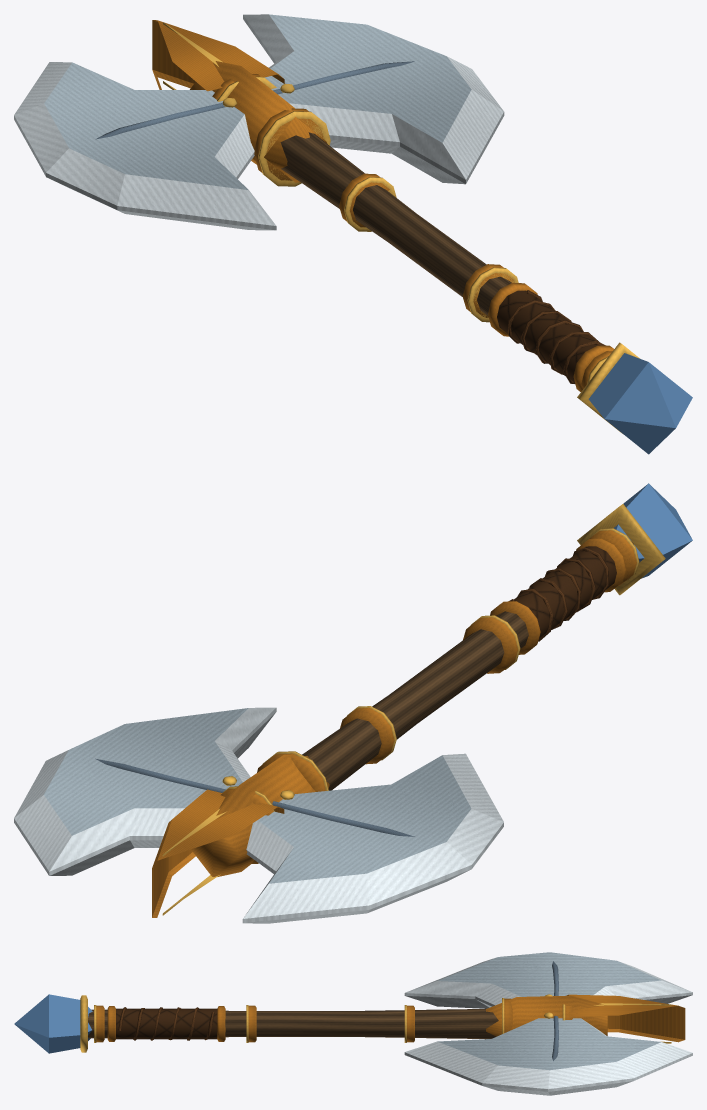
Rendered from iron_knuckle_axe.glb.
The picture shows the model from 3 angles, top to bottom: view 1: azimuth 30°, elevation 25°; view 2: azimuth 150°, elevation 25°; view 3: azimuth 270°, elevation 25°; orthographic projection. The views are drawn at different scales.
Visible parts, largest first — view 1: Iron Knuckle crescent blade face (×2), Iron Knuckle crescent blade broad bevel (×3), Long patterned axe shaft, Axe faceted blue butt jewel, Gold central head spike, Textured leather grip, Axe head square-sided gold socket, Iron Knuckle crescent blade cutting rim (×2), Axe ferrule bright lip (×2), Axe shaft gold ferrule (×2), Axe forged strengthening rib (×2), Raised spiral leather binding (+2 smaller); view 2: Iron Knuckle crescent blade face (×2), Iron Knuckle crescent blade broad bevel (×4), Long patterned axe shaft, Gold central head spike, Axe head square-sided gold socket, Textured leather grip, Axe shaft gold ferrule (×4), Axe faceted blue butt jewel, Iron Knuckle crescent blade cutting rim (×2), Axe butt jewel gold bezel, Grip metal ferrule (×2), Axe forged strengthening rib (×2) (+1 smaller); view 3: Iron Knuckle crescent blade face (×2), Iron Knuckle crescent blade broad bevel (×4), Long patterned axe shaft, Gold central head spike, Textured leather grip, Axe faceted blue butt jewel, Axe head square-sided gold socket, Iron Knuckle crescent blade cutting rim (×2), Axe shaft gold ferrule (×4), Grip metal ferrule (×2), Raised spiral leather binding, Axe butt jewel gold bezel.
Part boxes in pixels (x1,y1,x2,y2): Iron Knuckle crescent blade face (×2): (44,14,471,189); Iron Knuckle crescent blade broad bevel (×3): (14,14,503,225); Long patterned axe shaft: (280,132,511,315); Axe faceted blue butt jewel: (588,353,692,454); Gold central head spike: (152,20,284,91); Textured leather grip: (497,290,599,382); Axe head square-sided gold socket: (190,61,327,182); Iron Knuckle crescent blade cutting rim (×2): (14,15,504,230); Axe ferrule bright lip (×2): (258,111,518,322); Axe shaft gold ferrule (×2): (254,108,514,317); Axe forged strengthening rib (×2): (95,61,414,139); Raised spiral leather binding: (507,290,605,383); Iron Knuckle crescent blade face (×2): (44,708,471,883); Iron Knuckle crescent blade broad bevel (×4): (14,707,503,923); Long patterned axe shaft: (302,541,633,790); Gold central head spike: (152,789,284,917); Axe head square-sided gold socket: (191,754,329,876); Textured leather grip: (514,546,616,638); Axe shaft gold ferrule (×4): (257,530,636,791); Axe faceted blue butt jewel: (614,483,692,578); Iron Knuckle crescent blade cutting rim (×2): (14,708,503,923); Axe butt jewel gold bezel: (577,504,665,595); Grip metal ferrule (×2): (490,538,625,654); Axe forged strengthening rib (×2): (95,758,414,836); Iron Knuckle crescent blade face (×2): (437,952,661,1070); Iron Knuckle crescent blade broad bevel (×4): (405,958,692,1095); Long patterned axe shaft: (88,1008,498,1039); Gold central head spike: (567,994,685,1042); Textured leather grip: (116,1008,217,1039); Axe faceted blue butt jewel: (14,994,92,1053); Axe head square-sided gold socket: (486,995,607,1036); Iron Knuckle crescent blade cutting rim (×2): (404,992,692,1091); Axe shaft gold ferrule (×4): (96,998,512,1042); Grip metal ferrule (×2): (107,1006,225,1041); Raised spiral leather binding: (118,1007,214,1040); Axe butt jewel gold bezel: (80,995,87,1052).
Bounding box in the file's own units: 3622 × 752 × 7805.
9 materials, 8 textured.
